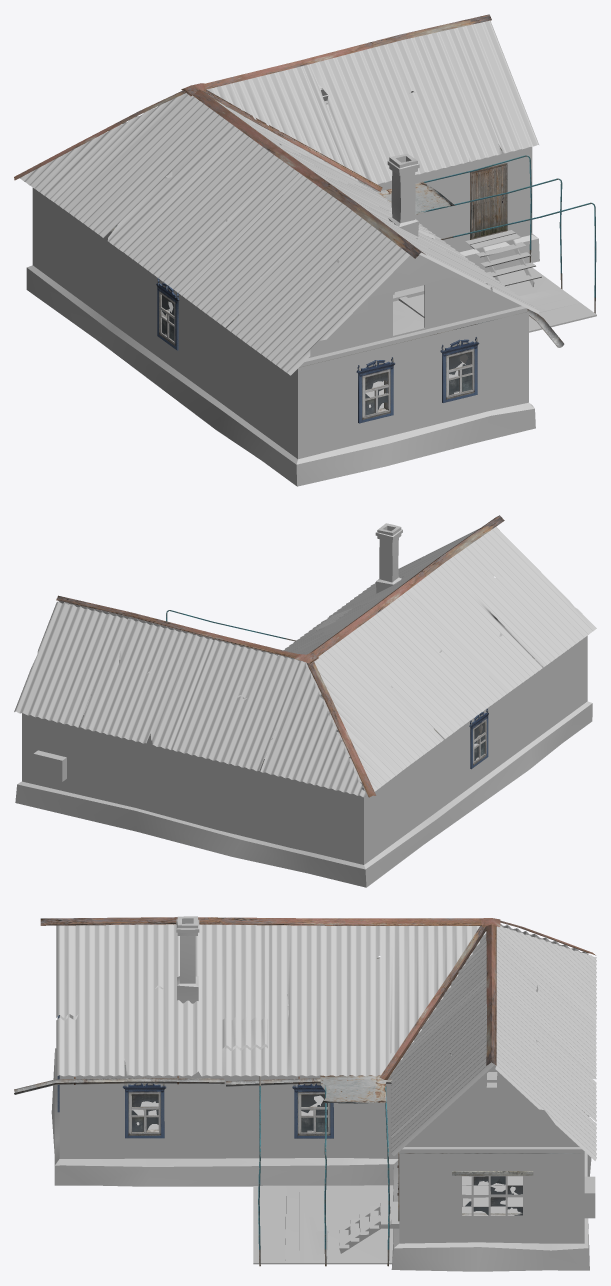
The model's file is Houses_Ready_02_Form2.FBX.
The picture shows the model from 3 angles, top to bottom: view 1: azimuth 30°, elevation 25°; view 2: azimuth 150°, elevation 25°; view 3: azimuth 270°, elevation 25°; orthographic projection. The views are drawn at different scales.
Parts seen in each view (by area): view 1: Roof_02_Form2, Corps_02_2, Foundation_05_2, Attic_02_Form2, Porch_07, Peak_03_Form2, Windows_02 (×2), Door_05, Chimney_01, Windows_02_2; view 2: Roof_02_Form2, Corps_02_2, Foundation_05_2, Peak_03_Form2, Chimney_01, Electrical_Box_03, Windows_02, Attic_02_Form2; view 3: Roof_02_Form2, Corps_02_2, Foundation_05_2, Porch_07, Attic_02_Form2, Peak_03_Form2, Drain_02, Chimney_01, Windows_02_2, Windows_02, Windows_Big_03, Electrical_Box_03.
Part boxes in pixels (x1,y1,x2,y2): Roof_02_Form2: (19, 20, 539, 375); Corps_02_2: (32, 147, 532, 459); Foundation_05_2: (26, 234, 539, 486); Attic_02_Form2: (116, 85, 527, 367); Porch_07: (377, 155, 596, 332); Peak_03_Form2: (14, 14, 491, 258); Windows_02 (×2): (156, 278, 479, 402); Door_05: (472, 165, 505, 238); Chimney_01: (387, 153, 419, 236); Windows_02_2: (356, 357, 395, 423); Roof_02_Form2: (14, 527, 596, 797); Corps_02_2: (22, 635, 587, 864); Foundation_05_2: (15, 701, 592, 887); Peak_03_Form2: (56, 515, 504, 797); Chimney_01: (375, 523, 402, 593); Electrical_Box_03: (33, 750, 66, 781); Windows_02: (469, 708, 488, 769); Attic_02_Form2: (64, 585, 577, 786); Roof_02_Form2: (56, 924, 596, 1160); Corps_02_2: (59, 957, 584, 1243); Foundation_05_2: (51, 1048, 591, 1271); Porch_07: (253, 1075, 399, 1266); Attic_02_Form2: (60, 939, 583, 1152); Peak_03_Form2: (40, 917, 595, 1079); Drain_02: (14, 1076, 392, 1094); Chimney_01: (176, 916, 199, 1003); Windows_02_2: (122, 1083, 166, 1138); Windows_02: (292, 1083, 333, 1138); Windows_Big_03: (460, 1175, 524, 1217); Electrical_Box_03: (584, 1176, 595, 1218).
Bounding box in the file's own units: 1510 × 1792 × 799.
